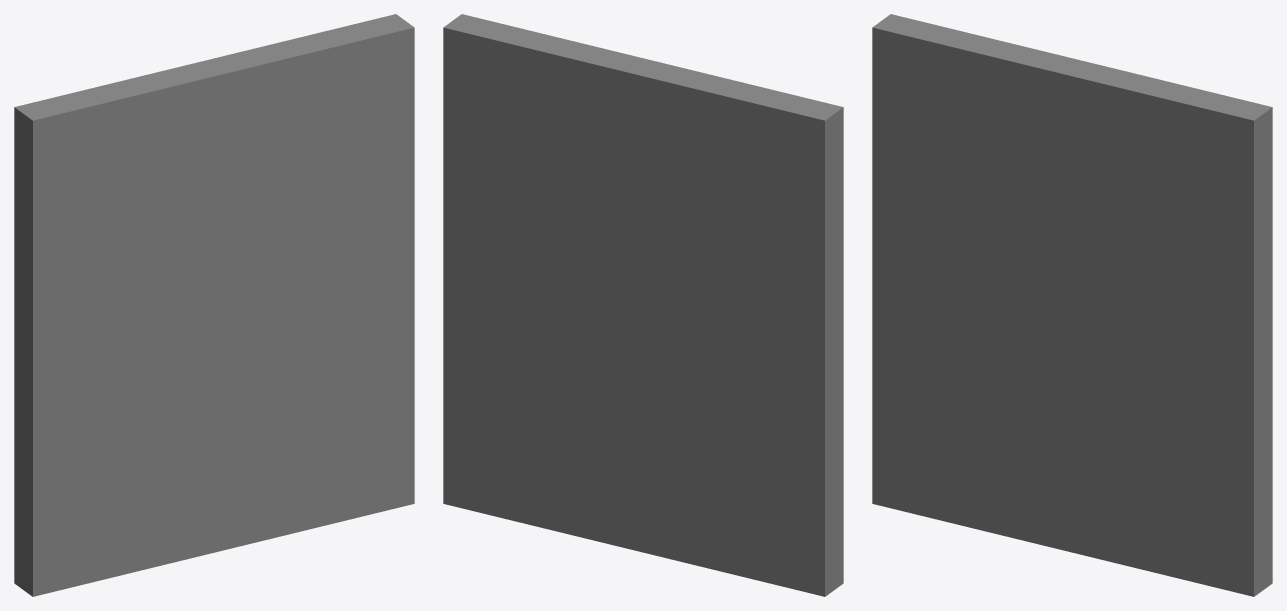
File: door_regular.glb
3 renders of one model, left to right at view 1: azimuth 30°, elevation 25°; view 2: azimuth 150°, elevation 25°; view 3: azimuth 330°, elevation 25°, orthographic.
Parts seen in each view (by area): view 1: door_regular; view 2: door_regular; view 3: door_regular.
Part boxes in pixels (x1,y1,x2,y2): door_regular: (14,14,414,596); door_regular: (443,14,843,596); door_regular: (872,14,1272,596).
Bounding box in the file's own units: 2.38 × 2.84 × 0.2.
1 material, 1 textured.
